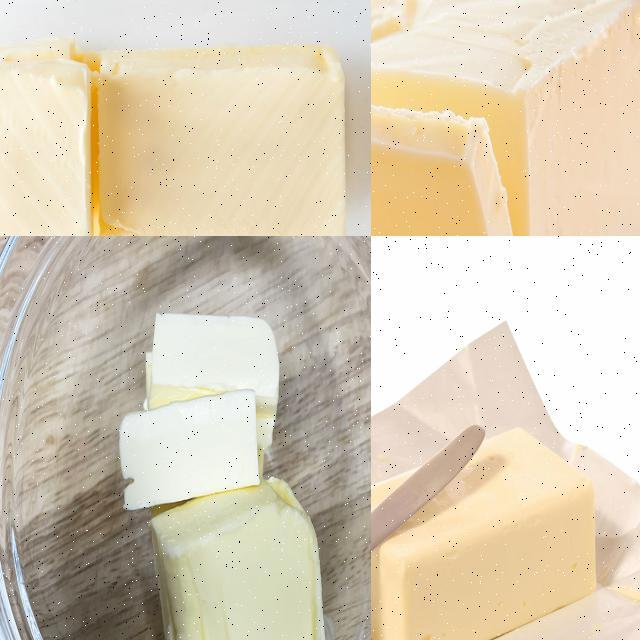Butter: (117, 305, 329, 639), (0, 41, 350, 235), (371, 0, 639, 235), (371, 420, 598, 639)
